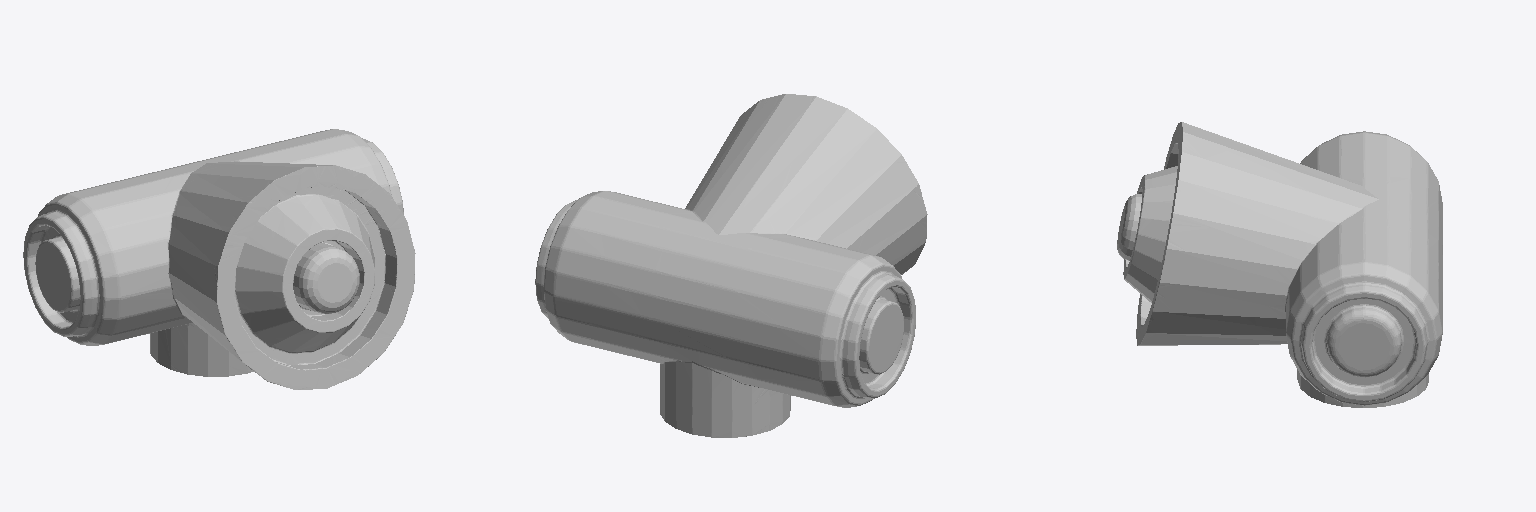
The model's file is WALLE_E_HEAD_HOLLOW_1MM.obj.
3 renders of one model, left to right at view 1: azimuth 30°, elevation 25°; view 2: azimuth 150°, elevation 25°; view 3: azimuth 270°, elevation 25°, orthographic.
Visible parts, largest first — view 1: WALLE_E_HEAD_HOLLOW_1MM1:Mesh; view 2: WALLE_E_HEAD_HOLLOW_1MM1:Mesh; view 3: WALLE_E_HEAD_HOLLOW_1MM1:Mesh.
Part boxes in pixels (x1,y1,x2,y2): WALLE_E_HEAD_HOLLOW_1MM1:Mesh: (23, 129, 415, 389); WALLE_E_HEAD_HOLLOW_1MM1:Mesh: (535, 94, 927, 437); WALLE_E_HEAD_HOLLOW_1MM1:Mesh: (1117, 122, 1442, 407).
Bounding box in the file's own units: 8.01 × 5.91 × 7.03.